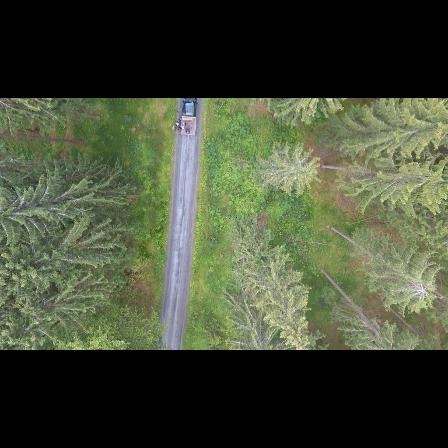Sick: (406, 272, 436, 310)
